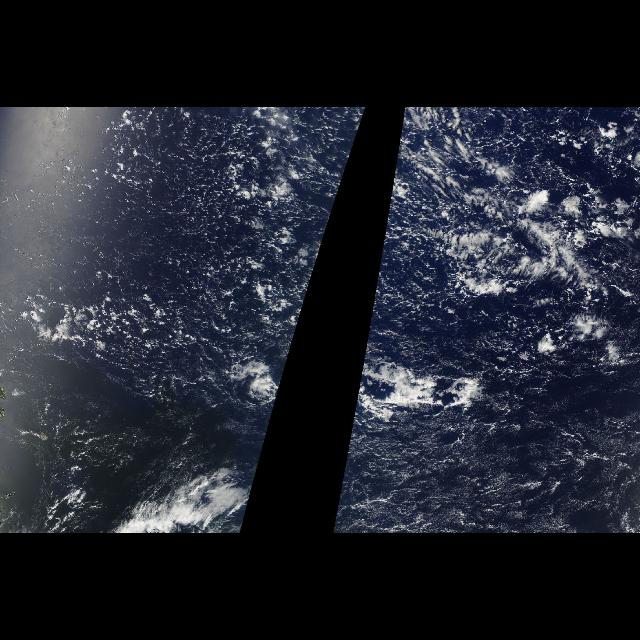Gravel: (12, 108, 368, 404), (364, 108, 626, 364)
Sugar: (12, 109, 278, 349), (349, 361, 639, 533)
